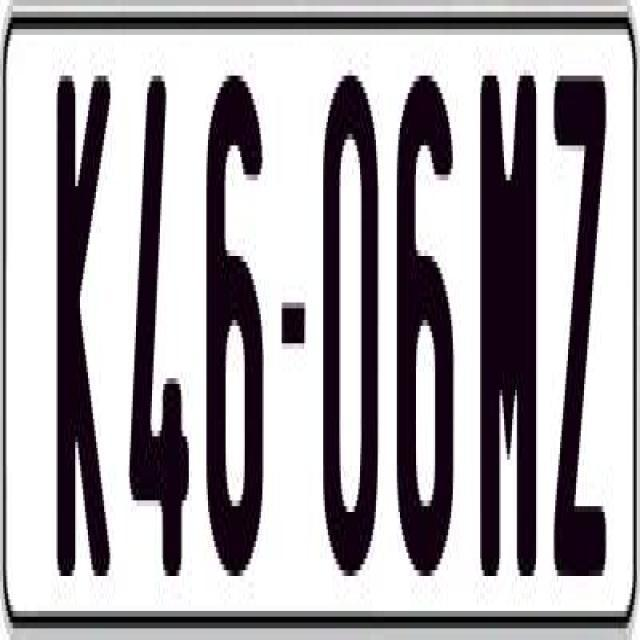0: (320, 70, 384, 594)
4: (130, 64, 197, 576)
6: (395, 58, 458, 559), (206, 63, 268, 564)
K: (58, 58, 116, 588)
M: (477, 76, 542, 594)
Z: (552, 58, 610, 559)
